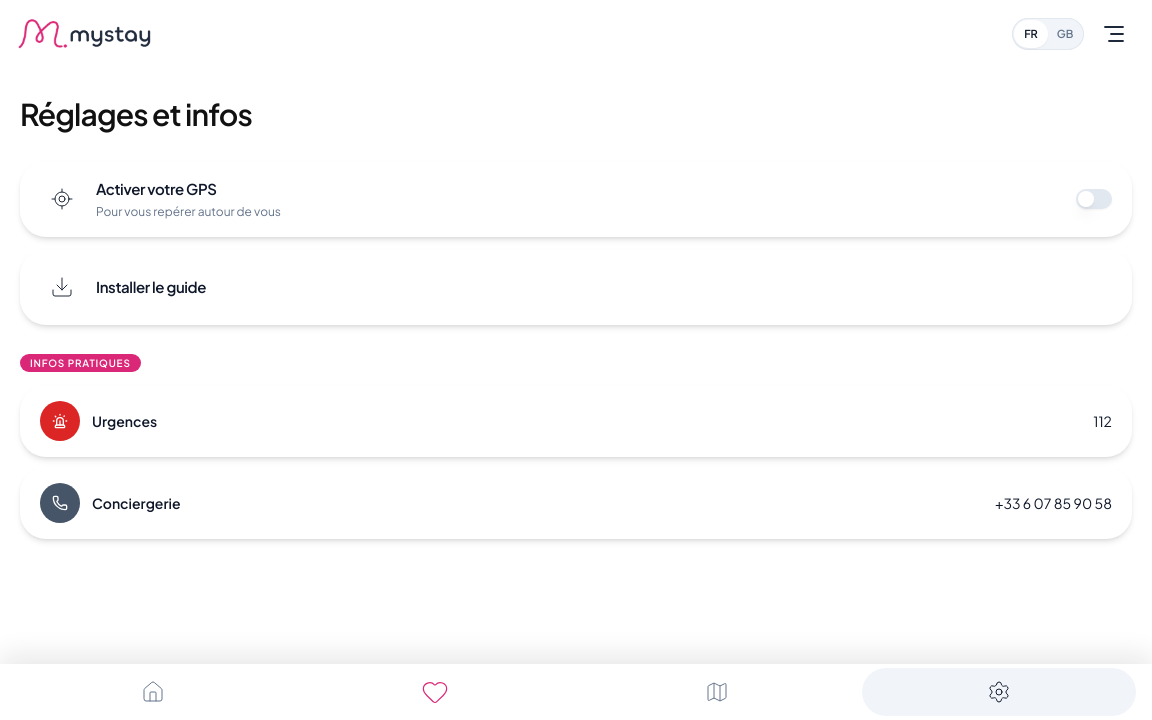
Test: AC-01-02: toucher GB bascule toute l’interface sans rechargement et mémorise le choix
The width and height of the screenshot is (1152, 720).
Check: the heading "Réglages et infos" is shown, box [20,95,252,133]
Click the radio button with aria-label "English". click: (1065, 34)
box: [1048,20,1082,48]
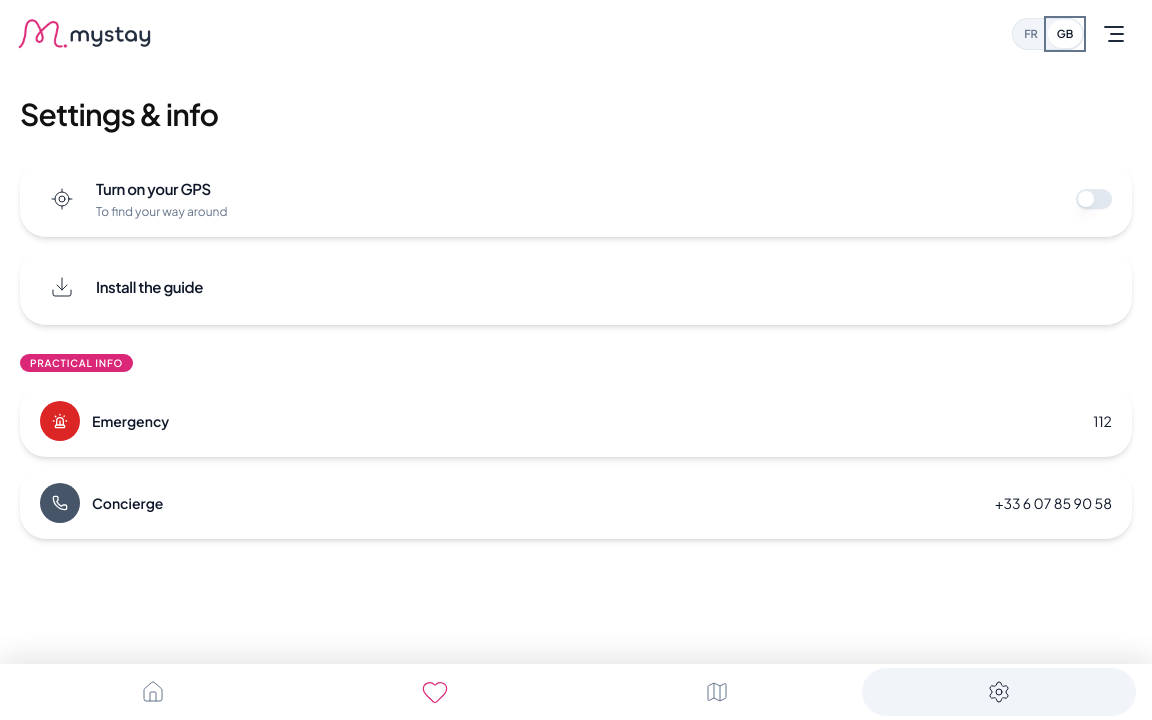
Check: the button named "Open menu" is shown, box [1092,12,1136,56]
Check: the heading "Settings & info" is shown, box [20,95,218,133]
Check: the heading "Practical info" is shown, box [20,354,133,372]
